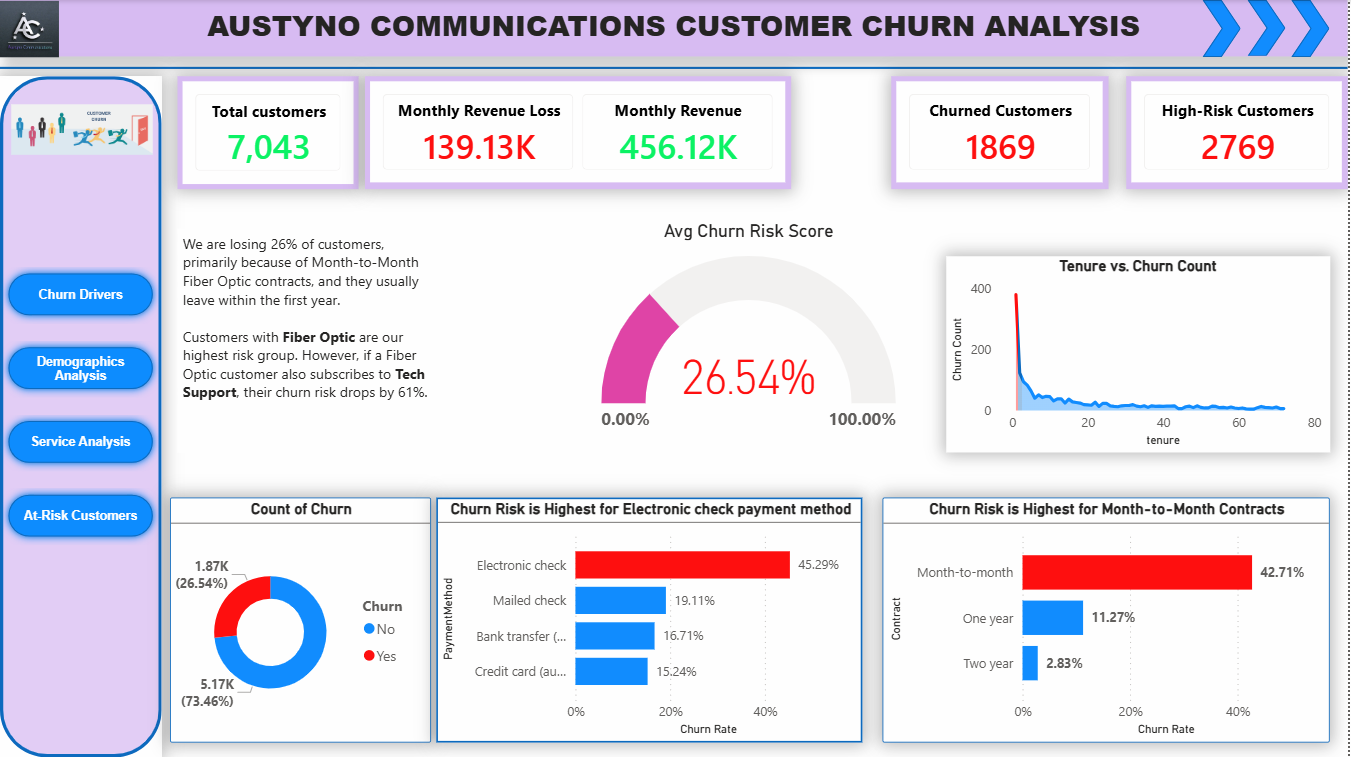

This screenshot's page, from the dashboard's own definition file:
{"tool":"powerbi","page":{"name":"Executive Summary","canvas":[1280,720],"ordinal":0},"visuals":[{"type":"group","id":"g1","title":"Group 2","box":[0,0,1280.2,87.6],"z":0},{"type":"shape","box":[1.1,64.7,153.6,647.2],"z":1000},{"type":"cardVisual","fields":{"Data":["_Measures.Total customers"]},"box":[168.2,72.3,172.4,107],"z":2000},{"type":"cardVisual","fields":{"Data":["_Measures.Churned Customers"]},"box":[846.6,72.4,206.6,106.9],"z":3000},{"type":"cardVisual","fields":{"Data":["_Measures.High-Risk Customers"]},"box":[1069.8,72.4,210.2,106.9],"z":4000},{"type":"gauge","fields":{"Y":["_Measures.Avg Churn Risk Score"]},"box":[566.4,209,289.7,220.8],"z":5000},{"type":"donutChart","title":"Count of Churn","fields":{"Y":["CountNonNull(FactCustomerChurn.Churn)"],"Category":["FactCustomerChurn.Churn"]},"box":[161.5,472.6,248.2,232.7],"z":6000},{"type":"textbox","box":[0,0,1279.7,53.9],"z":7000,"group":"g1"},{"type":"barChart","title":"Churn Risk is Highest for Month-to-Month Contracts","fields":{"Y":["_Measures.Overall churn Rate"],"Category":["FactCustomerChurn.Contract"]},"box":[838.3,472.6,425.1,232.7],"z":7000},{"type":"shape","box":[0,215.1,153.5,55.8],"z":8000},{"type":"image","box":[0,0,56.3,55.1],"z":9000,"group":"g1"},{"type":"shape","box":[0,277.5,153.5,55.8],"z":9000},{"type":"shape","box":[1142.5,0,36.4,54.2],"z":10000,"group":"g1"},{"type":"shape","box":[1.2,339.5,152.3,55.8],"z":10000},{"type":"shape","box":[1227.1,0,36.4,54.2],"z":11000,"group":"g1"},{"type":"shape","box":[0,402.3,153.5,55.8],"z":11000},{"type":"shape","box":[1184.8,0,36.1,53.1],"z":12000,"group":"g1"},{"type":"image","box":[10.7,87.9,134.2,70.1],"z":12000},{"type":"shape","box":[0,41.7,1280.2,45.9],"z":13000,"group":"g1"},{"type":"cardVisual","fields":{"Data":["_Measures.Monthly Revenue Loss","_Measures.Monthly Revenue"]},"box":[346.7,72.4,404.9,106.9],"z":13000},{"type":"clusteredBarChart","title":"Churn Risk is Highest for Electronic check payment method","fields":{"Category":["FactCustomerChurn.PaymentMethod"],"Y":["_Measures.Churn Rate %"]},"box":[414.4,472.6,404.9,232.7],"z":14000},{"type":"areaChart","title":"Tenure vs. Churn Count","fields":{"Category":["FactCustomerChurn.tenure"],"Y":["_Measures.Churn Count"]},"box":[898.8,243.4,364.5,186.4],"z":15000},{"type":"textbox","box":[168.6,217.3,245.8,212.5],"z":16000},{"type":"image","title":"Report & Designed by","box":[10.5,624.4,134.9,81.4],"z":17000}]}

Visuals, with their boxes in screenshot pixels (x1, y1, x2, y2), scaled from the page's 1280x720 canvas onto the 1351x757 screenshot:
"Group 2" group: crop(0, 0, 1350, 92)
shape: crop(1, 68, 163, 748)
cardVisual - _Measures.Total customers: crop(178, 76, 359, 189)
cardVisual - _Measures.Churned Customers: crop(894, 76, 1112, 189)
cardVisual - _Measures.High-Risk Customers: crop(1129, 76, 1350, 189)
gauge - _Measures.Avg Churn Risk Score: crop(598, 220, 904, 452)
"Count of Churn" donutChart: crop(170, 497, 432, 742)
textbox: crop(0, 0, 1350, 57)
"Churn Risk is Highest for Month-to-Month Contracts" barChart: crop(885, 497, 1333, 742)
shape: crop(0, 226, 162, 285)
image: crop(0, 0, 59, 58)
shape: crop(0, 292, 162, 350)
shape: crop(1206, 0, 1244, 57)
shape: crop(1, 357, 162, 416)
shape: crop(1295, 0, 1334, 57)
shape: crop(0, 423, 162, 482)
shape: crop(1251, 0, 1289, 56)
image: crop(11, 92, 153, 166)
shape: crop(0, 44, 1350, 92)
cardVisual - _Measures.Monthly Revenue Loss x _Measures.Monthly Revenue: crop(366, 76, 793, 189)
"Churn Risk is Highest for Electronic check payment method" clusteredBarChart: crop(437, 497, 865, 742)
"Tenure vs. Churn Count" areaChart: crop(949, 256, 1333, 452)
textbox: crop(178, 228, 437, 452)
"Report & Designed by" image: crop(11, 656, 153, 742)
